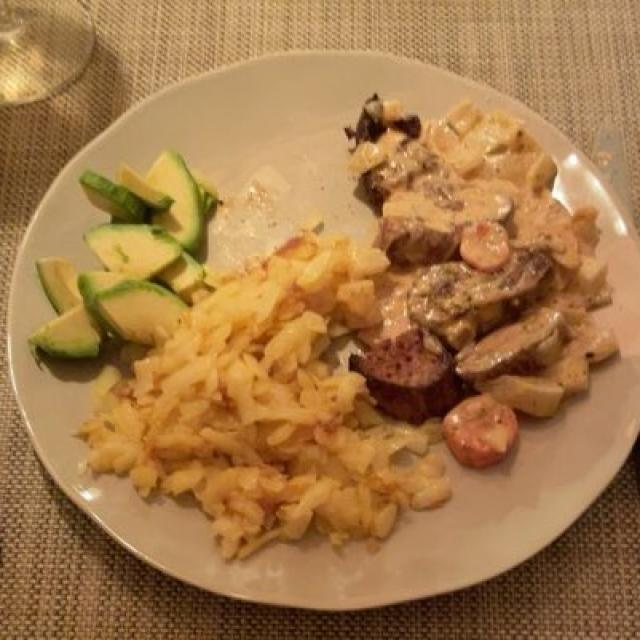avocado: (33, 155, 208, 359)
rosti: (56, 219, 430, 548)
sauce: (366, 110, 568, 327)
